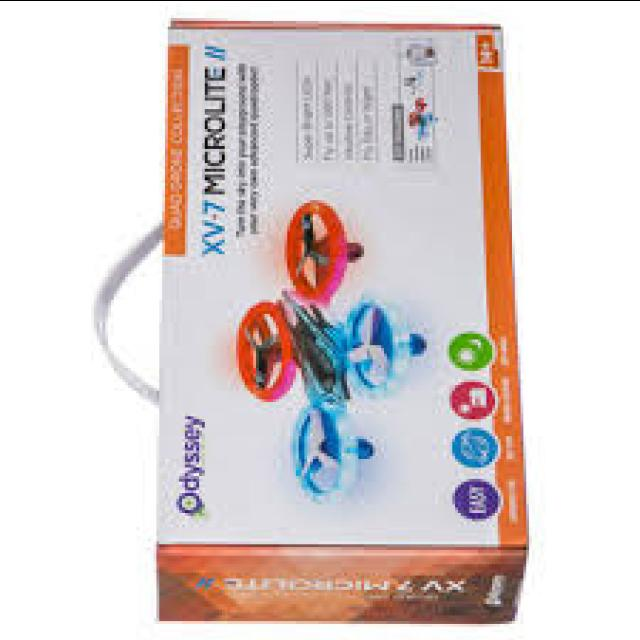drone: (230, 184, 442, 518)
